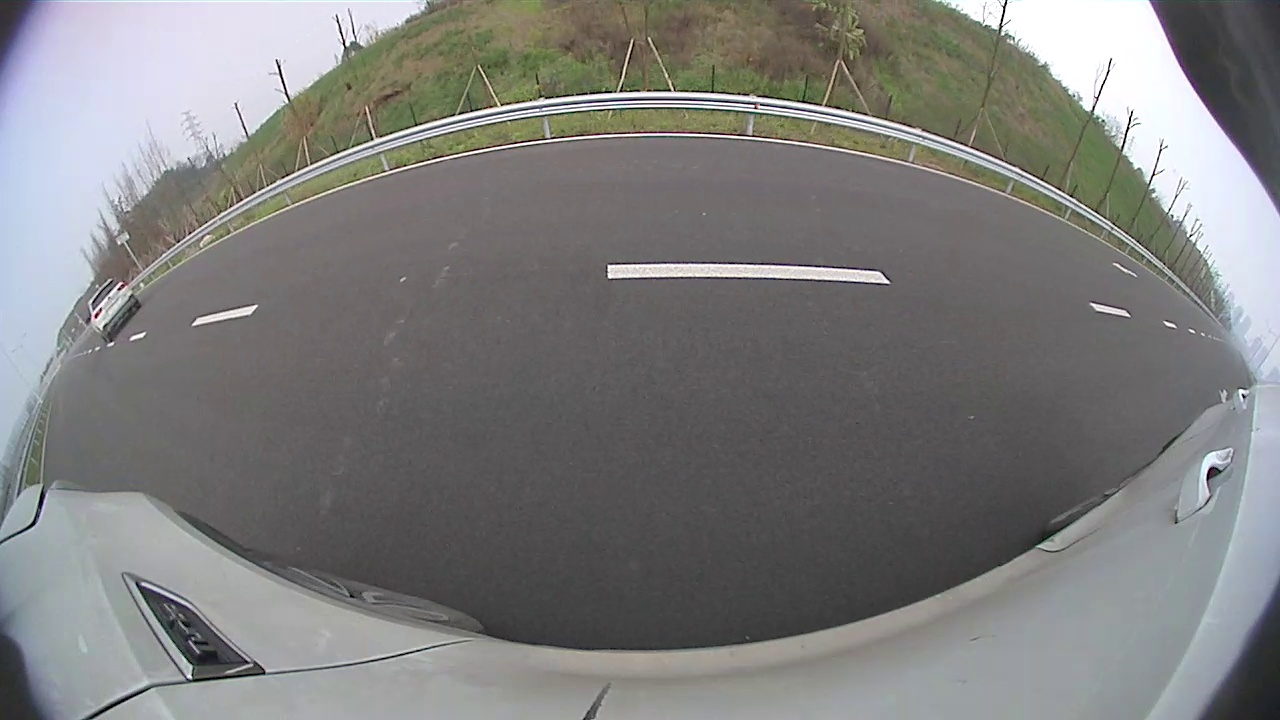car: (88, 278, 141, 342)
